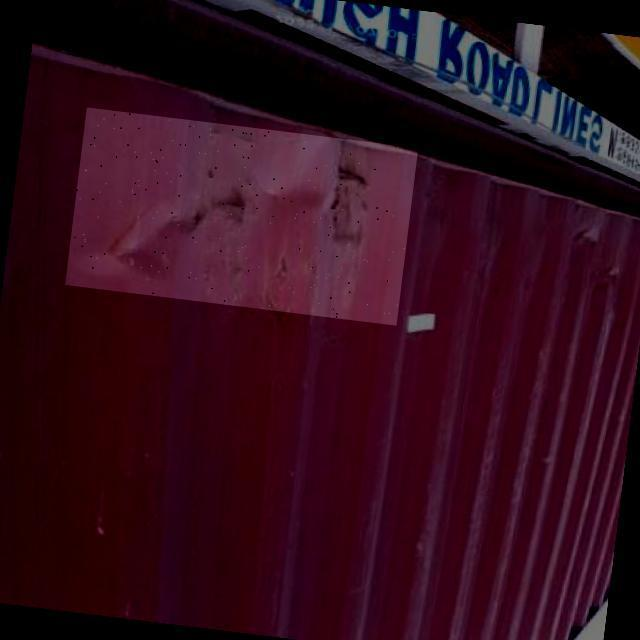dent: (66, 108, 419, 326)
